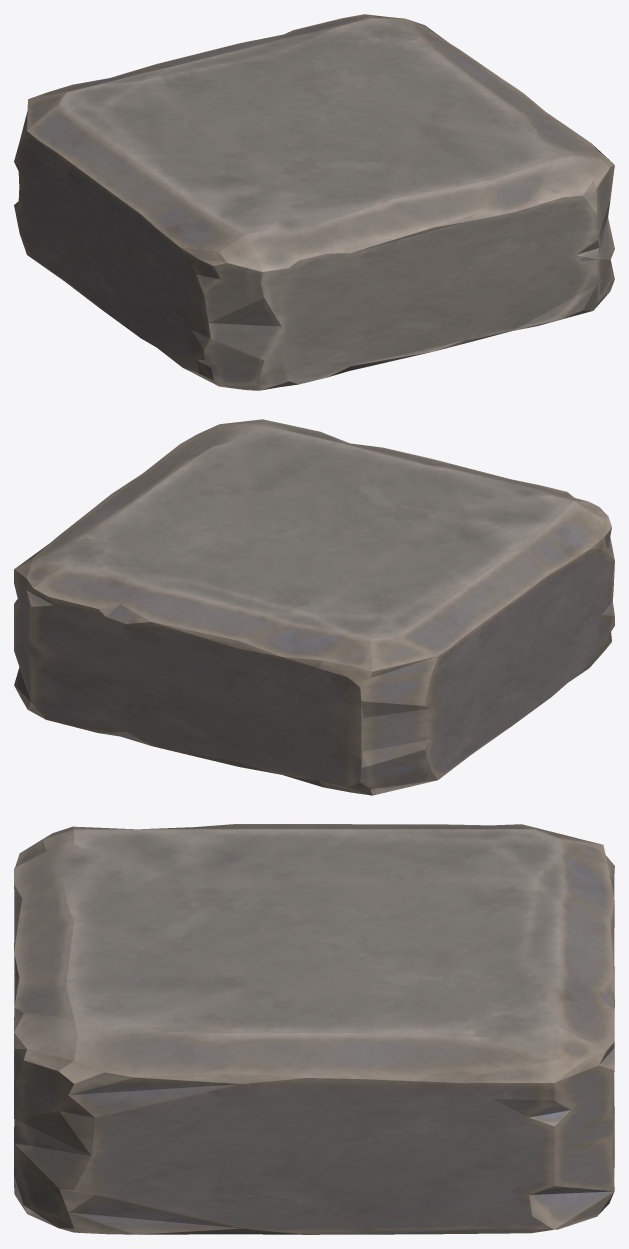
Rendered from Ruined_Cube03.fbx.
The picture shows the model from 3 angles, top to bottom: view 1: azimuth 30°, elevation 25°; view 2: azimuth 150°, elevation 25°; view 3: azimuth 270°, elevation 25°; orthographic projection. The views are drawn at different scales.
Parts seen in each view (by area): view 1: Ruined_Cube_L2.002; view 2: Ruined_Cube_L2.002; view 3: Ruined_Cube_L2.002.
Boxes of the visible parts, x1,y1,x2,y2 form: Ruined_Cube_L2.002: (14, 14, 614, 390); Ruined_Cube_L2.002: (14, 419, 614, 795); Ruined_Cube_L2.002: (14, 824, 614, 1234).
Bounding box in the file's own units: 243 × 87.54 × 242.
1 material, 1 textured.
